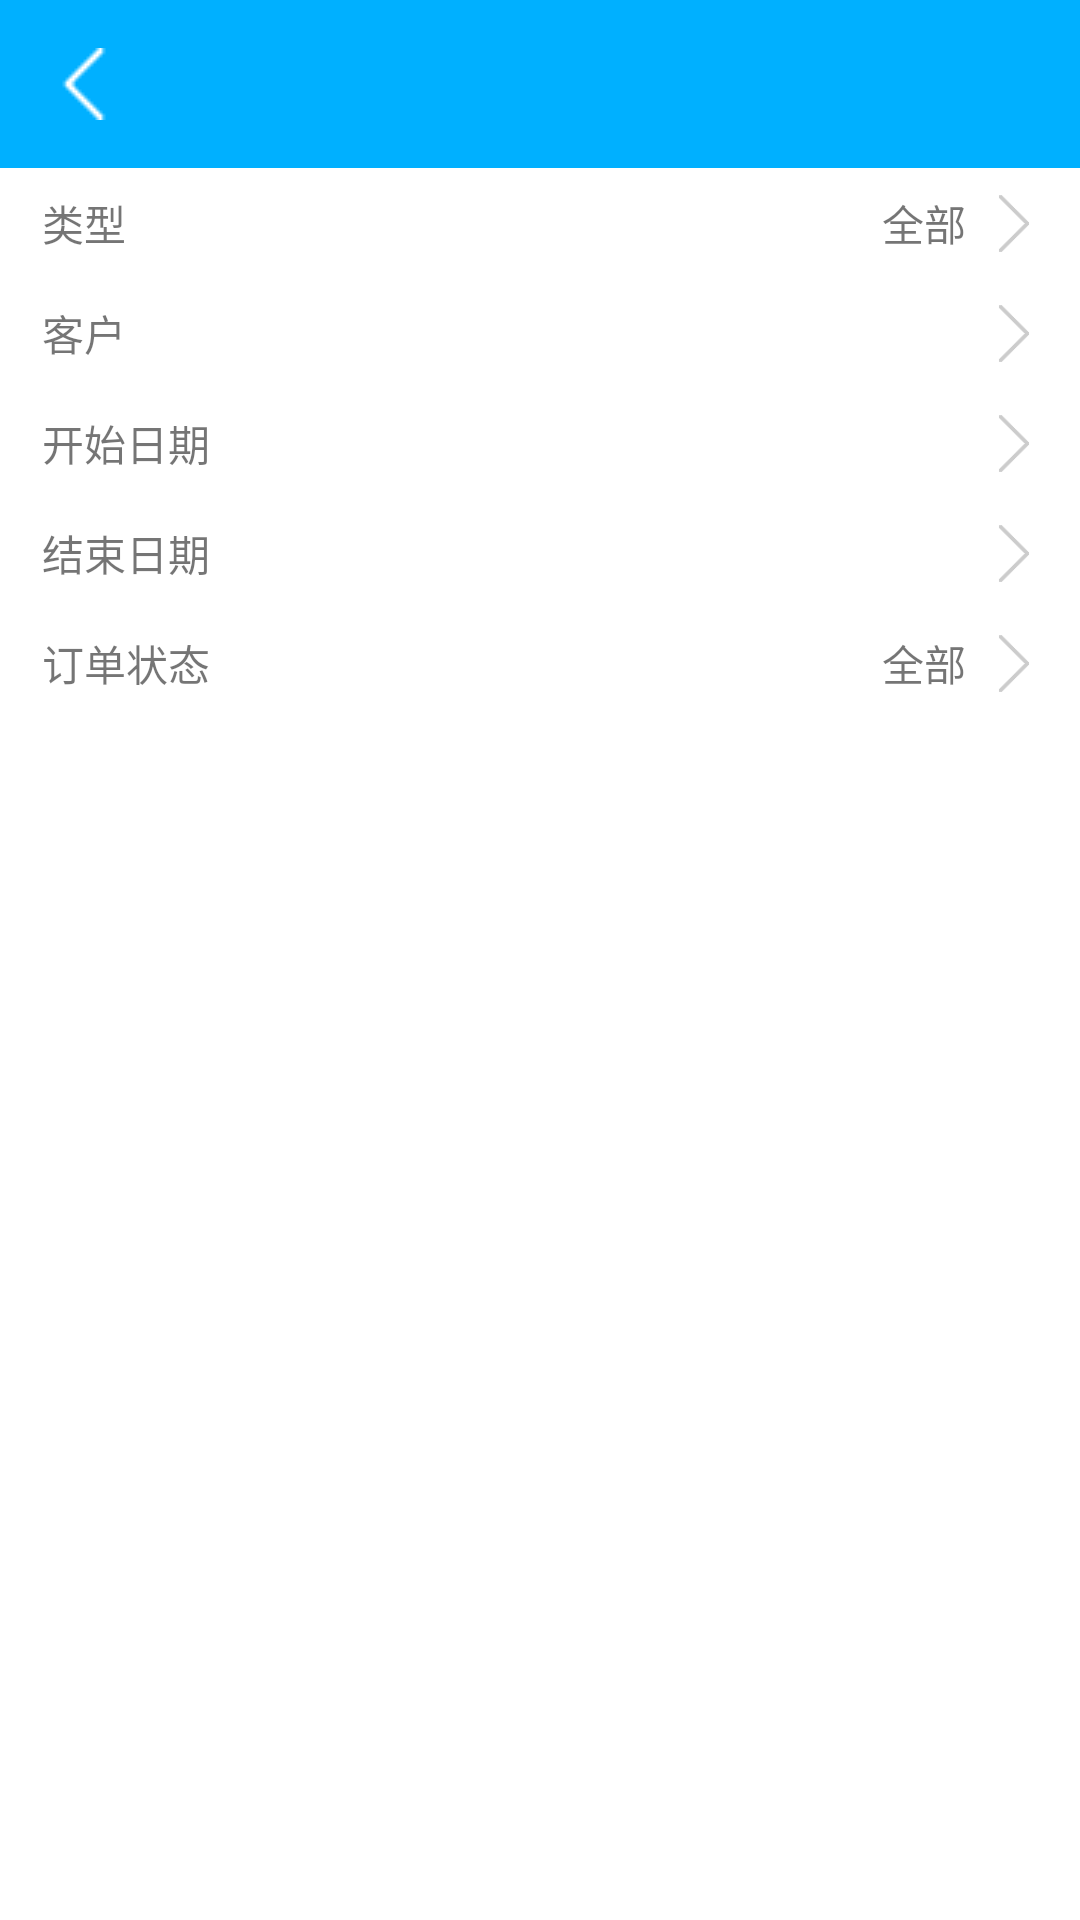

Screen size 1080w x 1920h. Icon name, then its center in pixels as (x,y):
arrow right: (1014,223), (1014,333), (1014,443), (1014,553), (1014,663)
